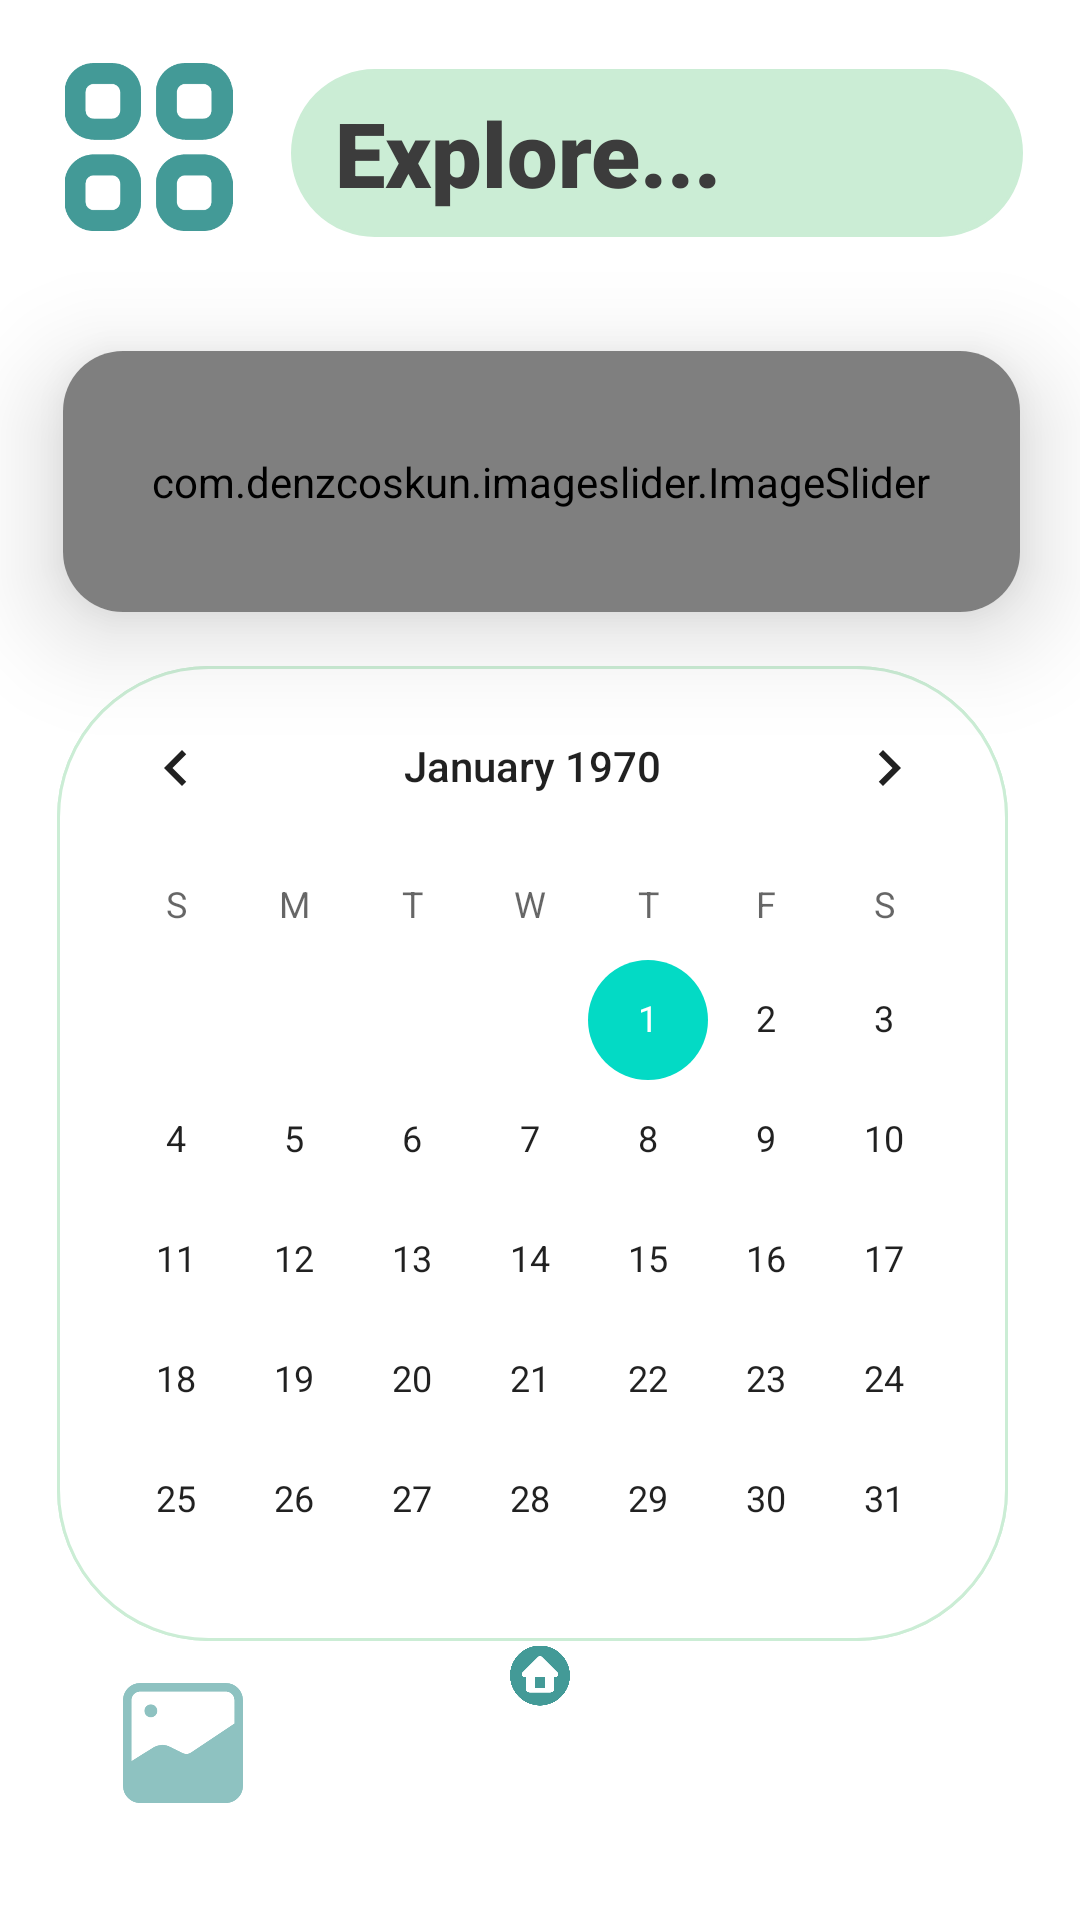

Locate icon controls on the screen. Image size 1080 x 1920, boxes as box(x1, y1, x2, y2).
home: box(510, 1646, 570, 1706)
menu: box(65, 63, 233, 231)
